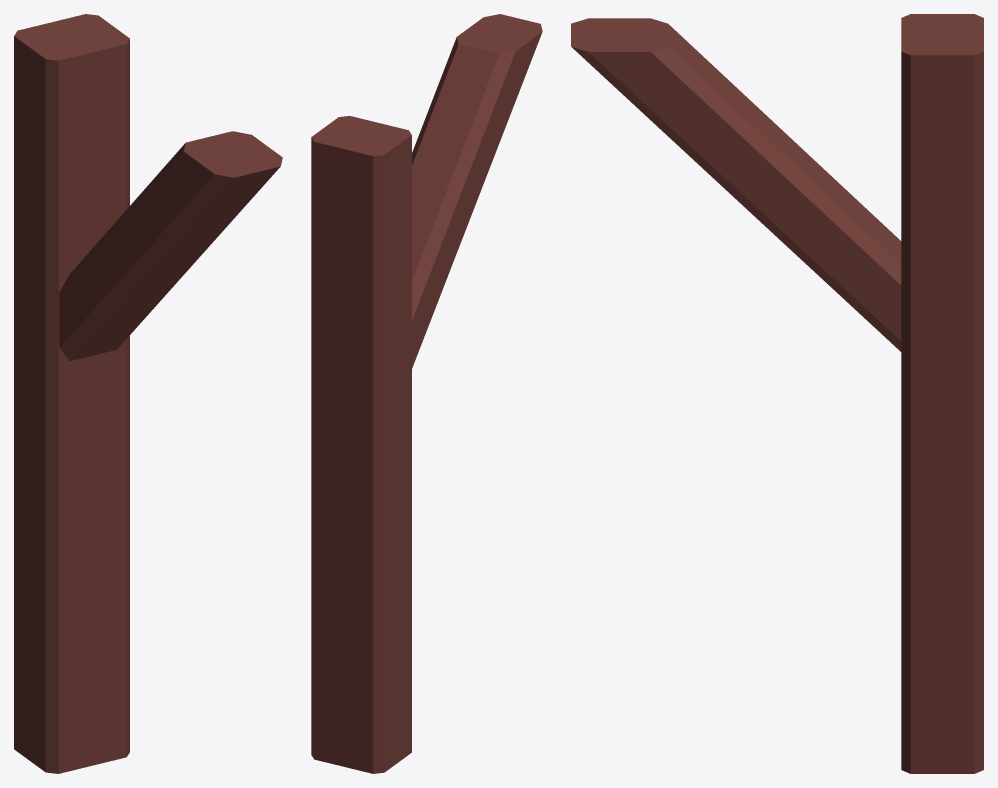
File: Column Vertical 07.fbx
3 renders of one model, left to right at view 1: azimuth 30°, elevation 25°; view 2: azimuth 150°, elevation 25°; view 3: azimuth 270°, elevation 25°, orthographic. The views are drawn at different scales.
Parts seen in each view (by area): view 1: Column Vertical 07; view 2: Column Vertical 07; view 3: Column Vertical 07.
Boxes of the visible parts, box(x1,y1,x2,y2) form: Column Vertical 07: box(14, 14, 282, 773); Column Vertical 07: box(311, 14, 542, 773); Column Vertical 07: box(571, 14, 983, 773).
Size of the model in its own units: 49.53 by 400 by 208.
